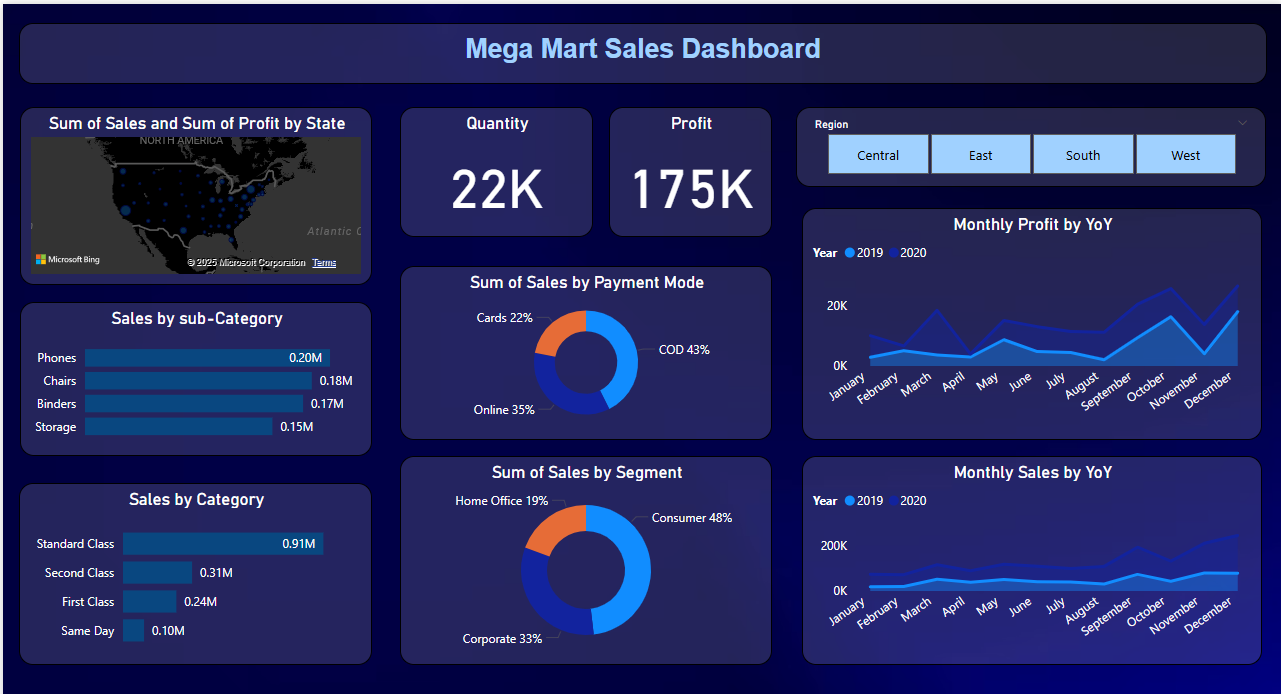

This screenshot's page, from the dashboard's own definition file:
{"tool":"powerbi","page":{"name":"Page 1","canvas":[1280,720],"ordinal":0},"visuals":[{"type":"clusteredBarChart","title":"Sales by sub-Category","fields":{"Category":["MegaMart_Sales_Dataset.Sub-Category"],"Y":["Sum(MegaMart_Sales_Dataset.Sales)"]},"box":[17,298,352,154],"z":1000},{"type":"clusteredBarChart","title":"Sales by Category","fields":{"Category":["MegaMart_Sales_Dataset.Ship Mode"],"Y":["Sum(MegaMart_Sales_Dataset.Sales)"]},"box":[15.6,478.9,353.3,182.2],"z":2000},{"type":"stackedAreaChart","title":"Monthly Sales by YoY","fields":{"Y":["Sum(MegaMart_Sales_Dataset.Sales)"],"Series":["MegaMart_Sales_Dataset.Order Date.Variation.Date Hierarchy.Year"],"Category":["MegaMart_Sales_Dataset.Order Date.Variation.Date Hierarchy.Month"]},"box":[798.9,452.2,460,208.9],"z":3000},{"type":"stackedAreaChart","title":"Monthly Profit by YoY","fields":{"Series":["MegaMart_Sales_Dataset.Order Date.Variation.Date Hierarchy.Year"],"Category":["MegaMart_Sales_Dataset.Order Date.Variation.Date Hierarchy.Month"],"Y":["Sum(MegaMart_Sales_Dataset.Profit)"]},"box":[798.9,204.4,460,231.1],"z":4000},{"type":"map","fields":{"Category":["MegaMart_Sales_Dataset.State"],"Size":["Sum(MegaMart_Sales_Dataset.Sales)"]},"box":[17,103,352,178],"z":5000},{"type":"donutChart","fields":{"Category":["MegaMart_Sales_Dataset.Segment"],"Y":["Sum(MegaMart_Sales_Dataset.Sales)"]},"box":[396.7,452.2,372.2,208.9],"z":6000},{"type":"donutChart","fields":{"Y":["Sum(MegaMart_Sales_Dataset.Sales)"],"Category":["MegaMart_Sales_Dataset.Payment Mode"]},"box":[396.7,262.2,372.2,173.3],"z":7000},{"type":"slicer","fields":{"Values":["MegaMart_Sales_Dataset.Region"]},"box":[793.3,103.3,470,80],"z":8000},{"type":"card","title":"Quantity","fields":{"Values":["Sum(MegaMart_Sales_Dataset.Quantity)"]},"box":[397,103,193,130],"z":10000},{"type":"card","title":"Profit","fields":{"Values":["Sum(MegaMart_Sales_Dataset.Profit)"]},"box":[606,103,163,130],"z":11000},{"type":"textbox","box":[16,19.5,1247.9,60.3],"z":12000}]}

Visuals, with their boxes on the page's 1280x720 design canvas (x1, y1, x2, y2). These are canvas units, not pixel positions in the 1281x694 screenshot, which may show the page scaled, cropped or inside an application window:
"Sales by sub-Category" clusteredBarChart: 17, 298, 369, 452
"Sales by Category" clusteredBarChart: 16, 479, 369, 661
"Monthly Sales by YoY" stackedAreaChart: 799, 452, 1259, 661
"Monthly Profit by YoY" stackedAreaChart: 799, 204, 1259, 436
map - MegaMart_Sales_Dataset.State x Sum(MegaMart_Sales_Dataset.Sales): 17, 103, 369, 281
donutChart - MegaMart_Sales_Dataset.Segment x Sum(MegaMart_Sales_Dataset.Sales): 397, 452, 769, 661
donutChart - Sum(MegaMart_Sales_Dataset.Sales) x MegaMart_Sales_Dataset.Payment Mode: 397, 262, 769, 436
slicer - MegaMart_Sales_Dataset.Region: 793, 103, 1263, 183
"Quantity" card: 397, 103, 590, 233
"Profit" card: 606, 103, 769, 233
textbox: 16, 20, 1264, 80
